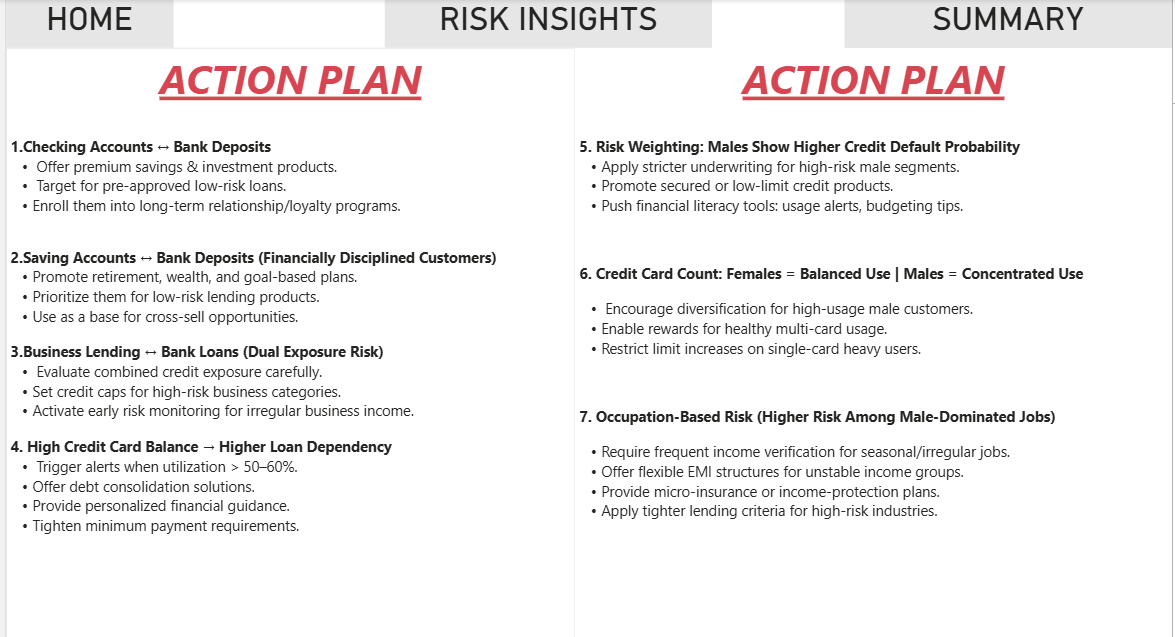

What the dashboard file says about the page in this screenshot:
{"tool":"powerbi","page":{"name":"ACTION PLAN","canvas":[1280,720],"ordinal":6},"visuals":[{"type":"textbox","box":[0,53.5,624.4,666.9],"z":0},{"type":"textbox","box":[624.4,53.5,655.9,666.9],"z":1000},{"type":"actionButton","title":"HOME","box":[0,0,183.9,53.5],"z":2000},{"type":"actionButton","title":"SUMMARY","box":[920.8,0,359.5,53.5],"z":3000},{"type":"actionButton","title":"SUMMARY","box":[920.5,0,359.5,53.5],"z":4000},{"type":"actionButton","title":"RISK INSIGHTS","box":[415.8,0,359.5,53.5],"z":5000}]}

Visuals, with their boxes on the page's 1280x720 design canvas (x1, y1, x2, y2). These are canvas units, not pixel positions in the 1175x637 screenshot, which may show the page scaled, cropped or inside an application window:
textbox: detection(0, 54, 624, 720)
textbox: detection(624, 54, 1280, 720)
"HOME" actionButton: detection(0, 0, 184, 54)
"SUMMARY" actionButton: detection(921, 0, 1280, 54)
"SUMMARY" actionButton: detection(920, 0, 1280, 54)
"RISK INSIGHTS" actionButton: detection(416, 0, 775, 54)
